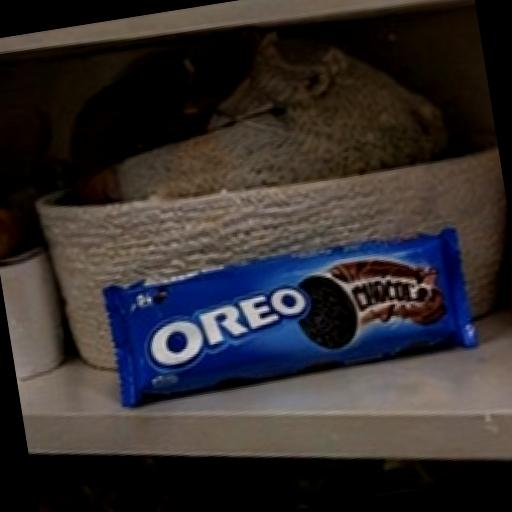oreo: (63, 177, 512, 442)
